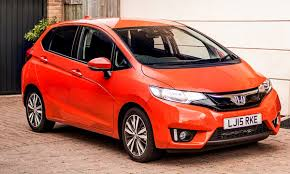Honda: (22, 18, 282, 162)
